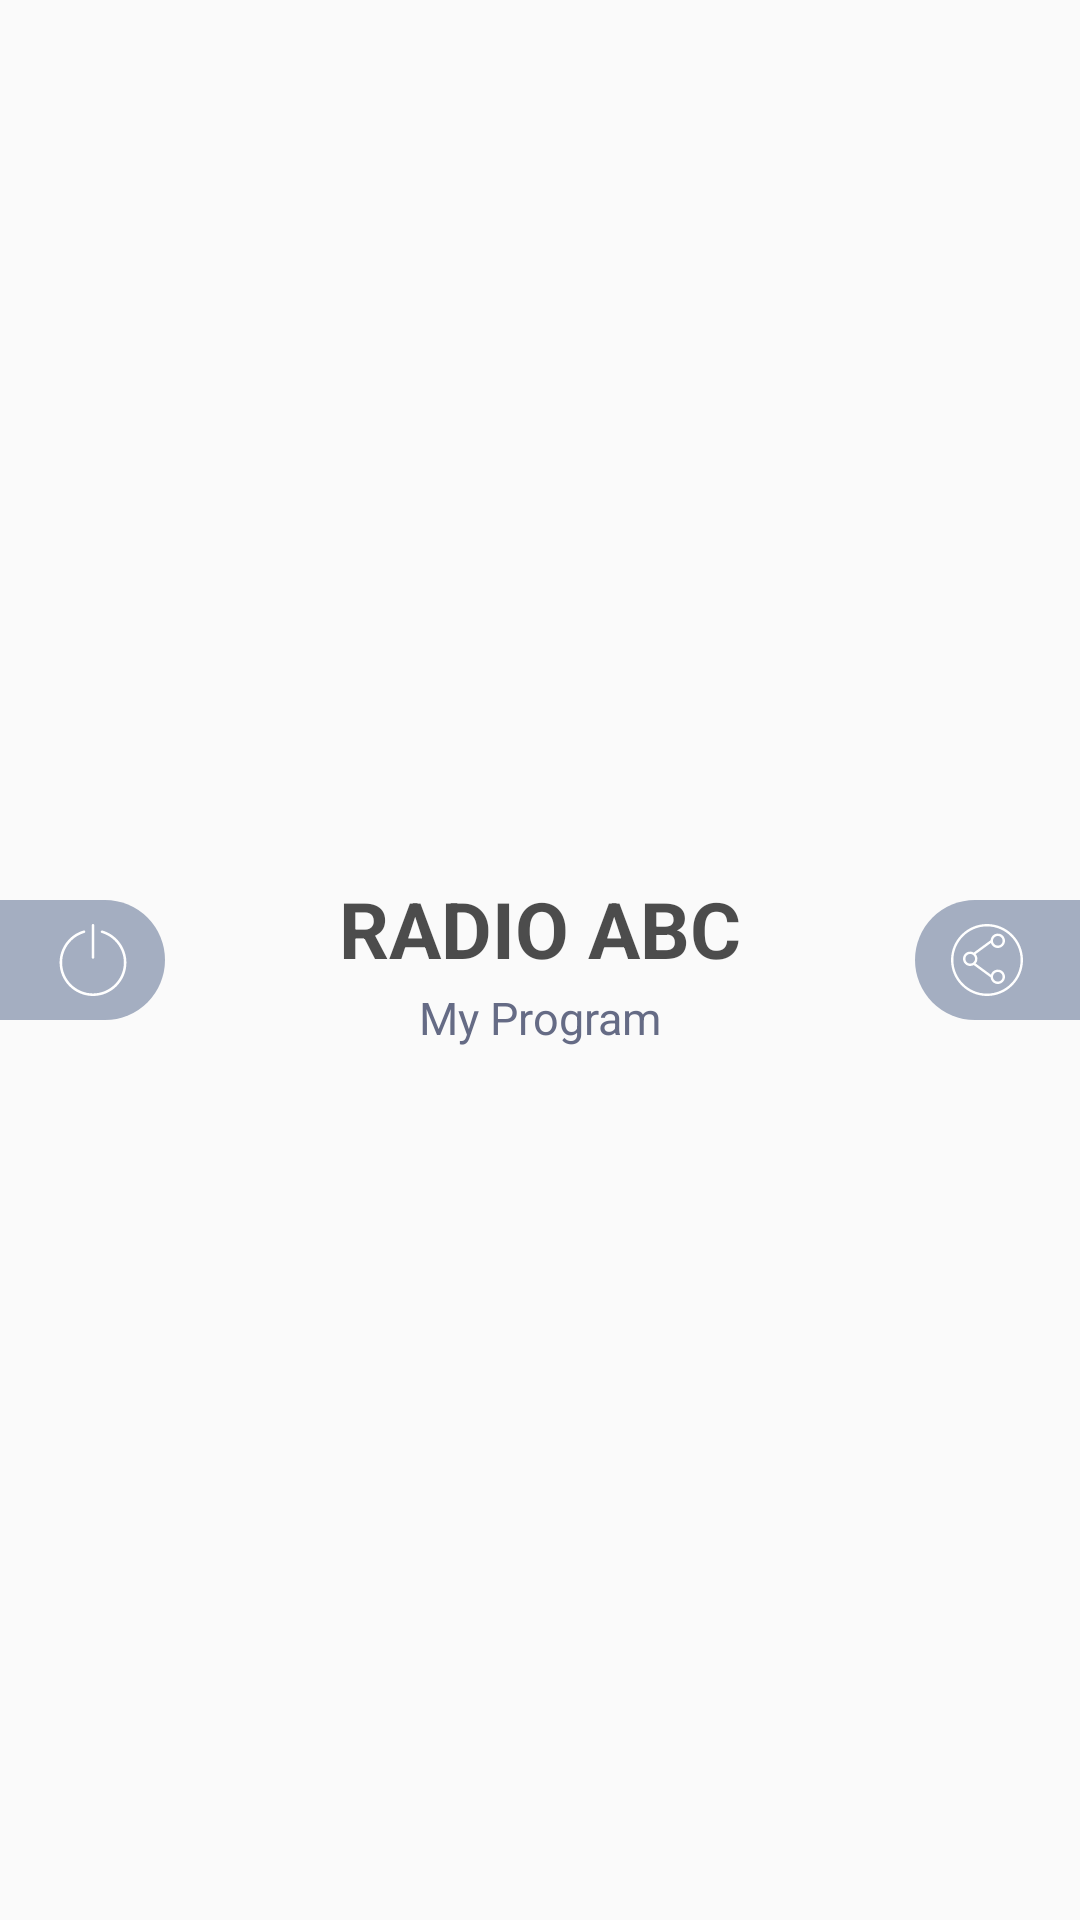

Point at icon controls on the screen. Image size 1080×1920, points as point (x, y).
power: point (93, 960)
share: point (987, 960)
